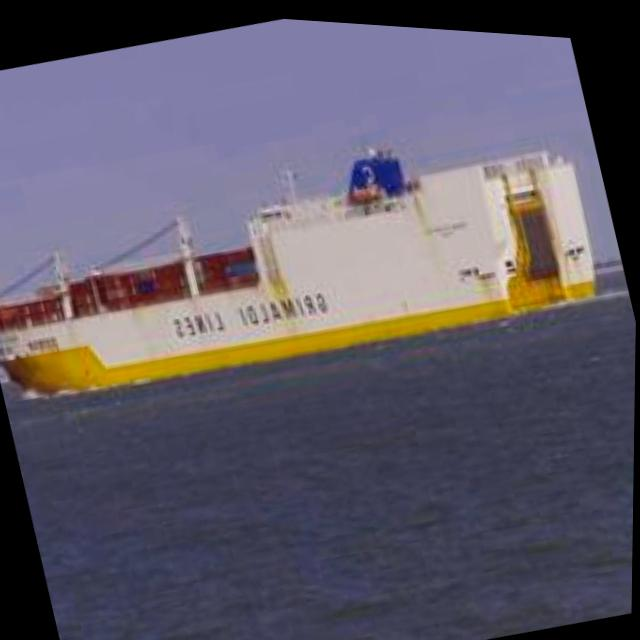ship2: (0, 133, 598, 399)
